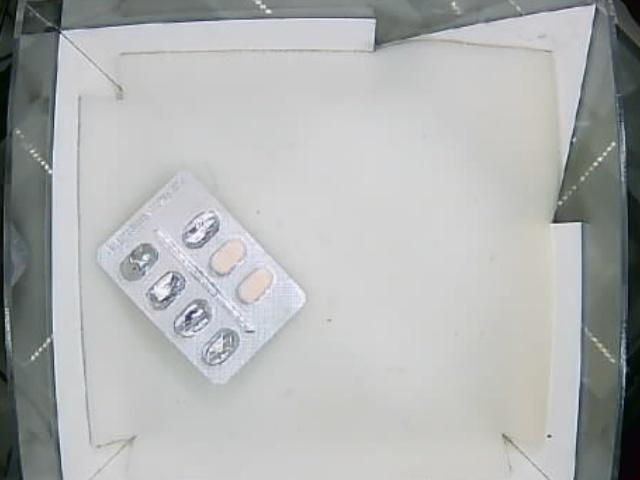Medicine: (95, 172, 308, 381)
